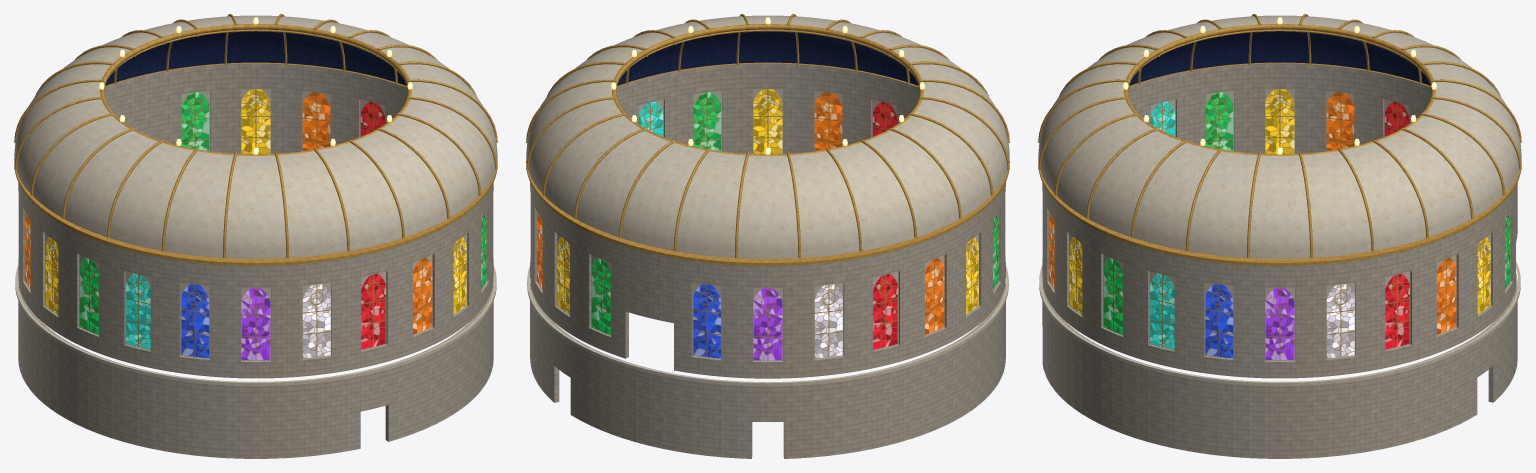
The model's file is lb_cathedral.glb.
3 views of the same model, side by side, from view 1: azimuth 30°, elevation 25°; view 2: azimuth 150°, elevation 25°; view 3: azimuth 270°, elevation 25° (orthographic).
Visible parts, largest first — view 1: lb_cathedral; view 2: lb_cathedral; view 3: lb_cathedral.
Part boxes in pixels (box(x1,y1,x2,y2)): lb_cathedral: box(14, 14, 497, 458); lb_cathedral: box(526, 14, 1009, 458); lb_cathedral: box(1038, 14, 1521, 458).
Bounding box in the file's own units: 54.4 × 34.25 × 54.41.
Materials: 14 (12 with a texture image).
